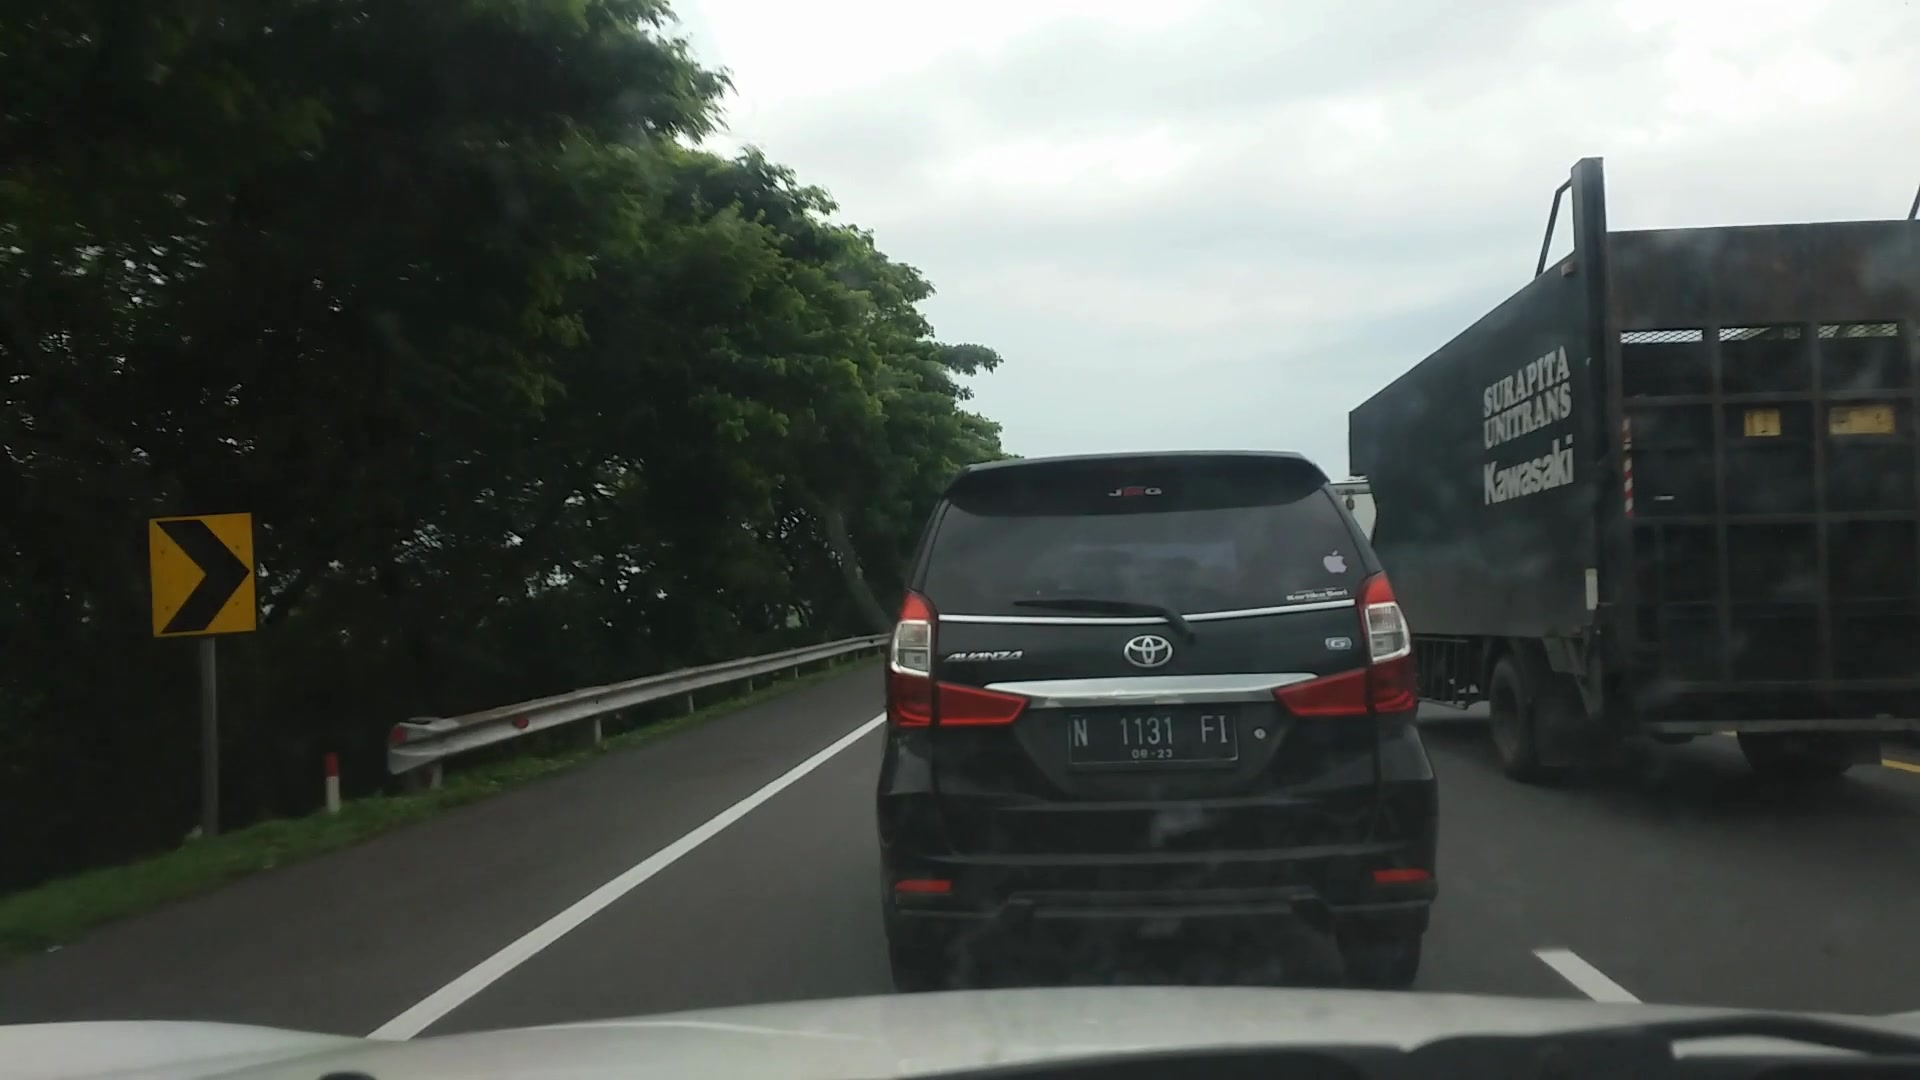plate_positive: (1067, 709, 1240, 764)
